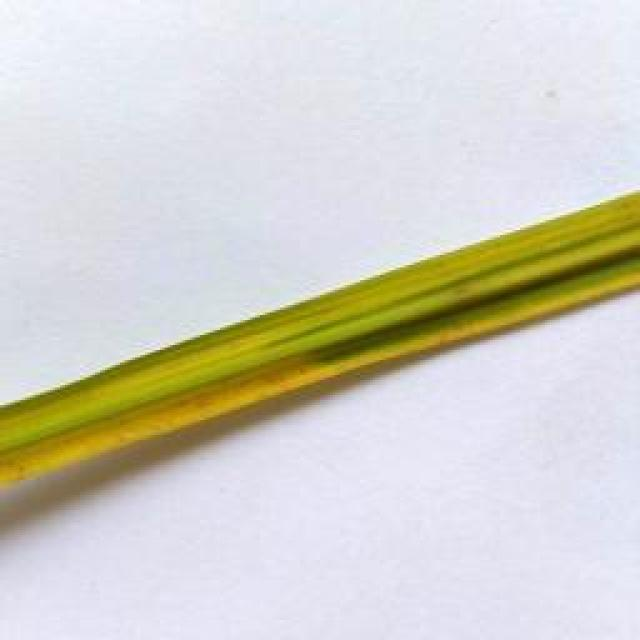Bacterial_Blight: (0, 356, 339, 482)
